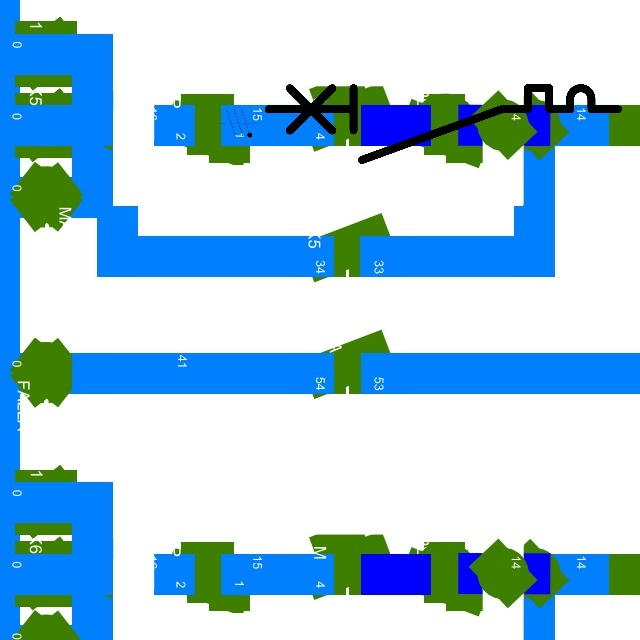interruptor_termomagnetico: (259, 79, 626, 169)
